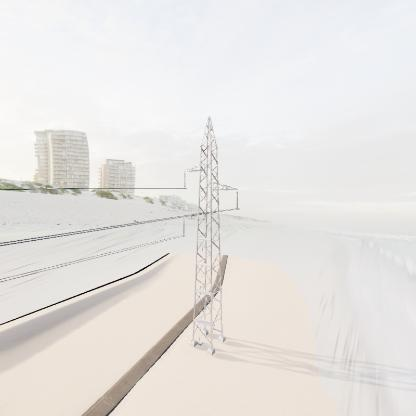tower: (179, 114, 247, 357)
